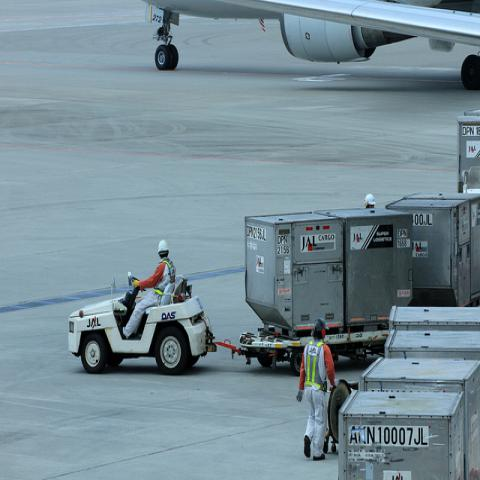car: (69, 276, 216, 376)
truck: (69, 270, 213, 373), (213, 313, 391, 376)
